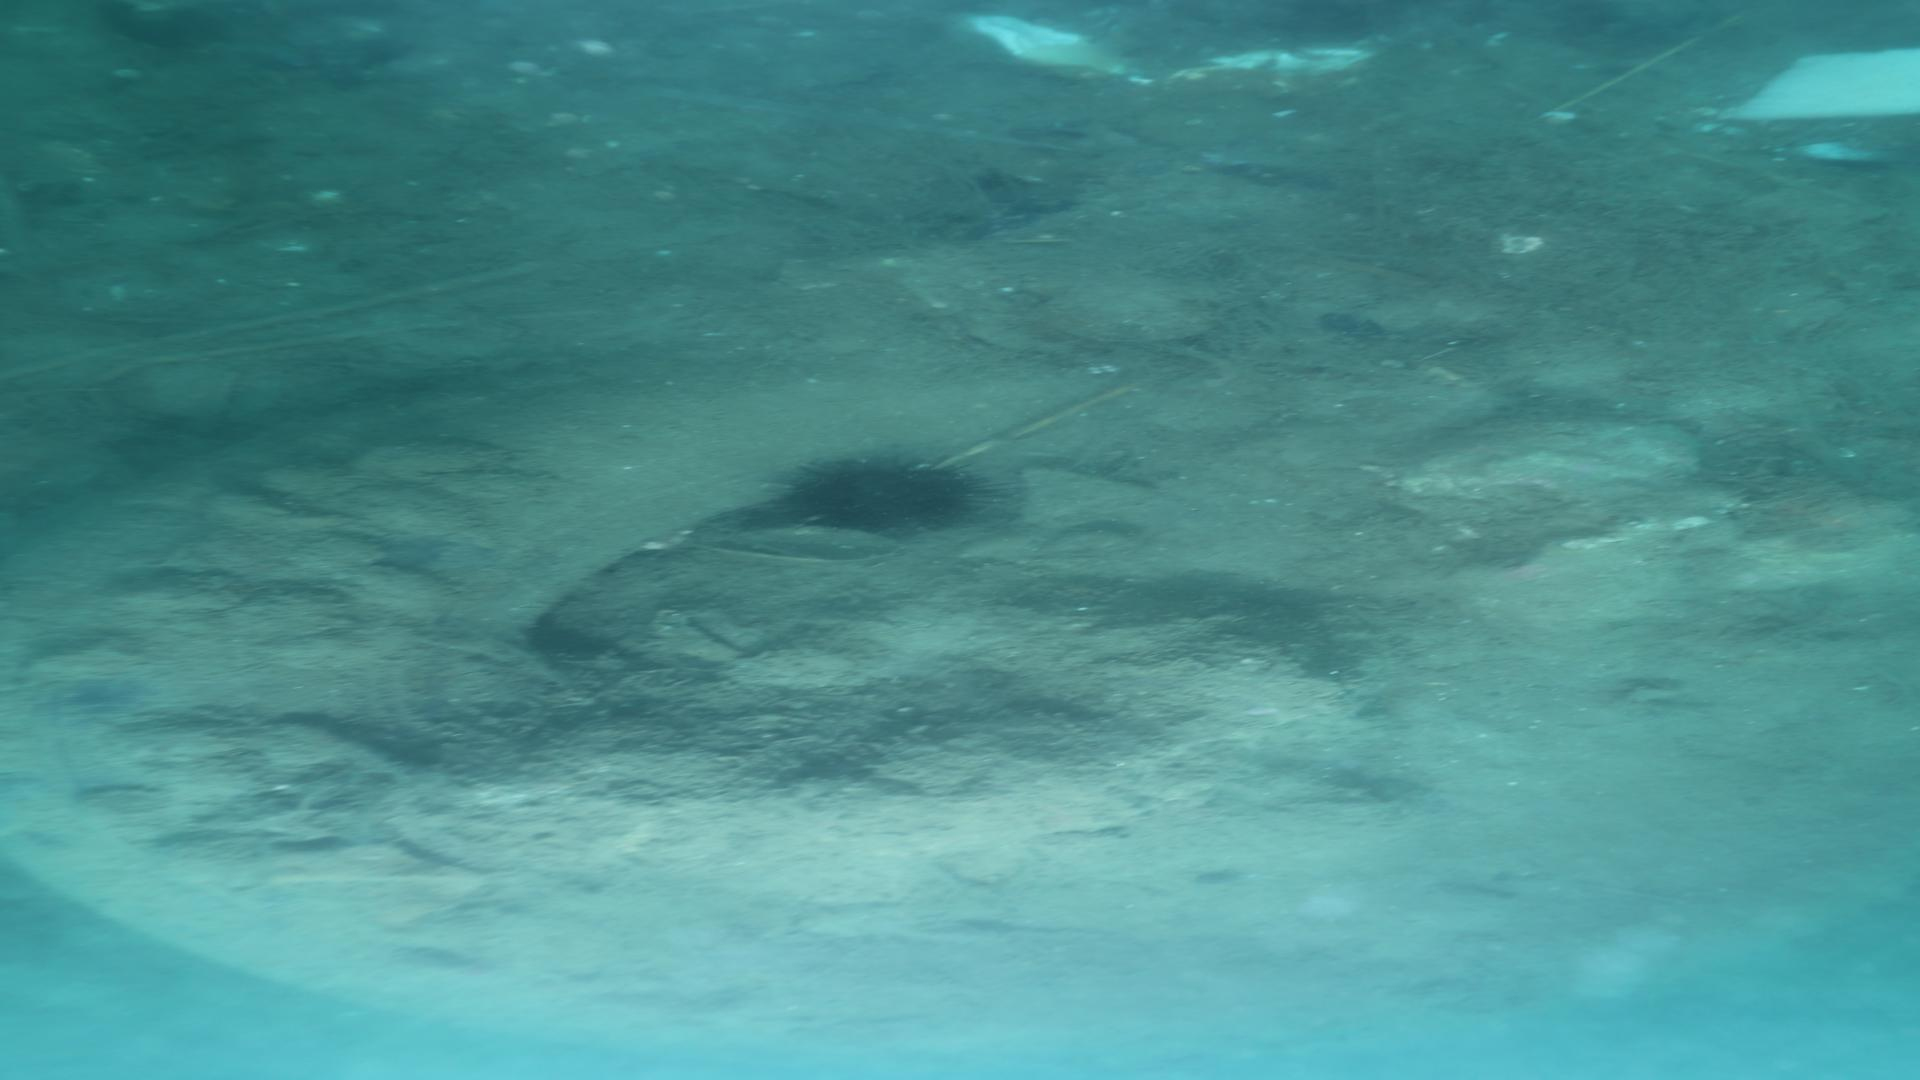tire: (3, 348, 1920, 1056)
